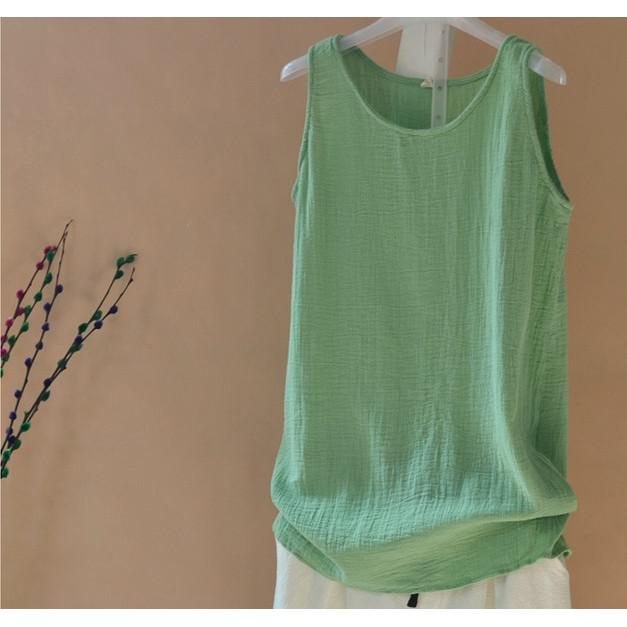Tops: (277, 28, 568, 564)
